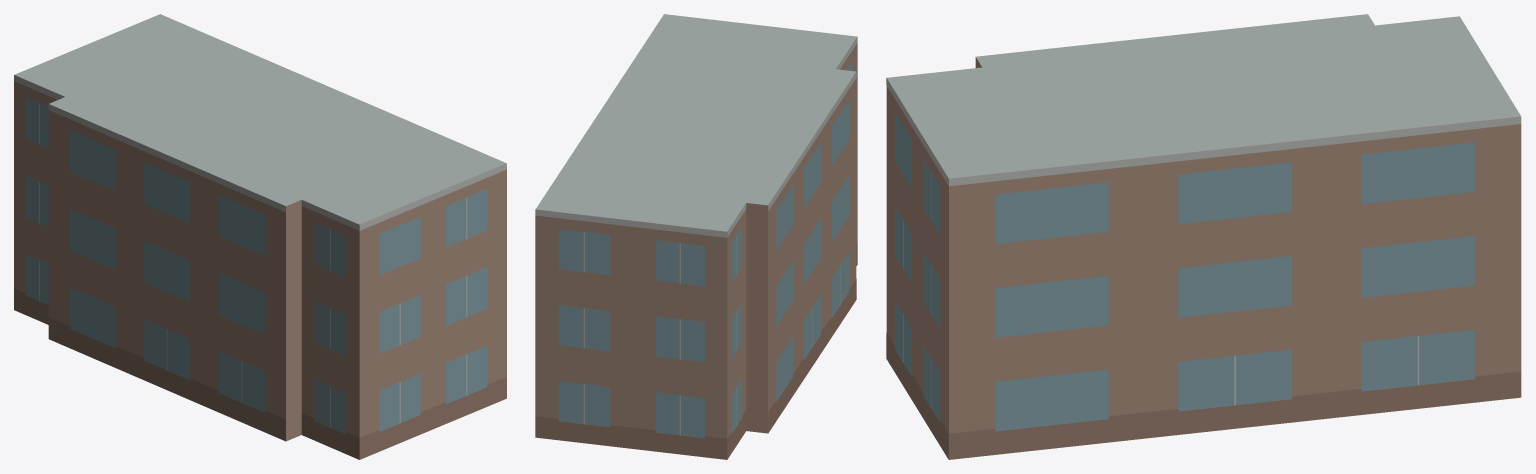
The model's file is survey-upis-32963618.glb.
The picture shows the model from 3 angles, left to right: view 1: azimuth 30°, elevation 25°; view 2: azimuth 150°, elevation 25°; view 3: azimuth 270°, elevation 25°; orthographic projection. The views are drawn at different scales.
Parts seen in each view (by area): view 1: survey-upis-32963618.tmp; view 2: survey-upis-32963618.tmp; view 3: survey-upis-32963618.tmp.
Part boxes in pixels (x1,y1,x2,y2): survey-upis-32963618.tmp: (14, 14, 506, 459); survey-upis-32963618.tmp: (535, 14, 857, 459); survey-upis-32963618.tmp: (886, 14, 1521, 459).
Bounding box in the file's own units: 11.52 × 9.15 × 18.74.
